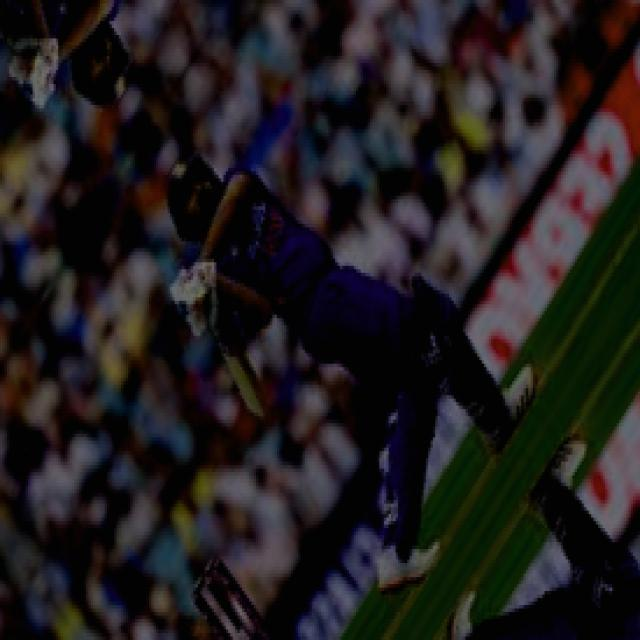toe: (232, 385, 273, 431)
